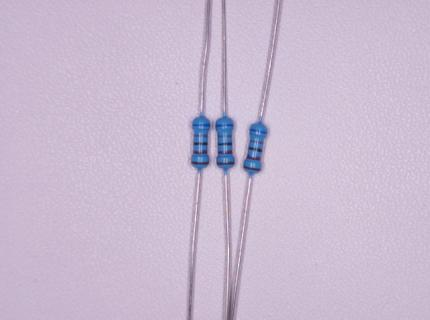Black band: (248, 146, 263, 153), (193, 142, 208, 146), (218, 142, 233, 146)
Blue band: (249, 128, 267, 135), (215, 123, 234, 128), (192, 122, 211, 126)
Brown band: (243, 165, 261, 173), (191, 160, 209, 165), (216, 162, 235, 166)
Grey band: (249, 139, 263, 145), (193, 134, 208, 138), (217, 134, 232, 138)
Red band: (246, 154, 261, 161), (193, 150, 208, 154), (218, 150, 232, 154)
